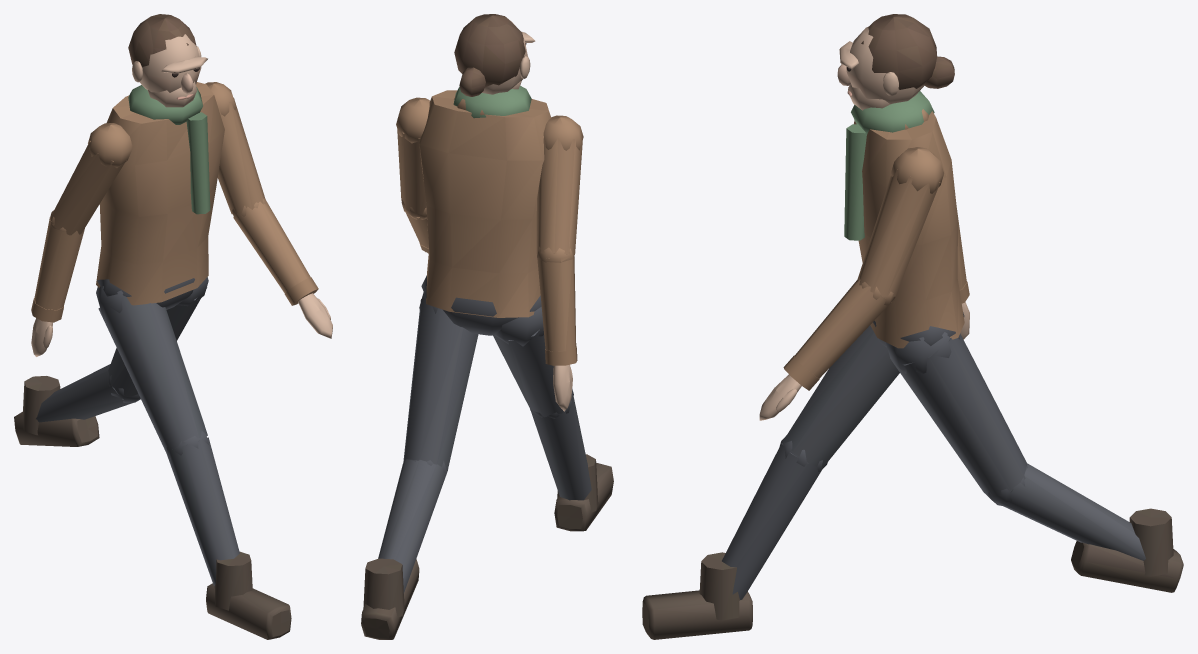
The model's file is crowd_walk_a_c.glb.
3 renders of one model, left to right at view 1: azimuth 30°, elevation 25°; view 2: azimuth 150°, elevation 25°; view 3: azimuth 270°, elevation 25°, orthographic. The views are drawn at different scales.
Visible parts, largest first — view 1: body; view 2: body; view 3: body.
Boxes of the visible parts, bbox=[...] form: body: bbox=[14, 14, 332, 639]; body: bbox=[361, 14, 613, 639]; body: bbox=[642, 14, 1183, 639].
Size of the model in its own units: 0.73 by 1.71 by 1.36.
